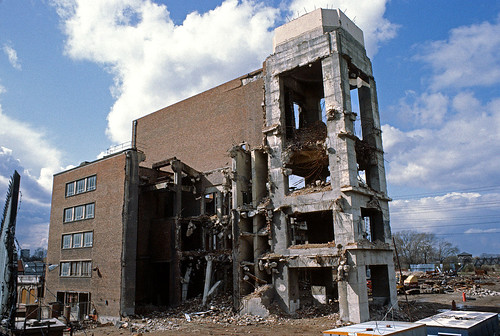building: (48, 39, 398, 315)
sky: (1, 4, 261, 154), (384, 1, 497, 215)
